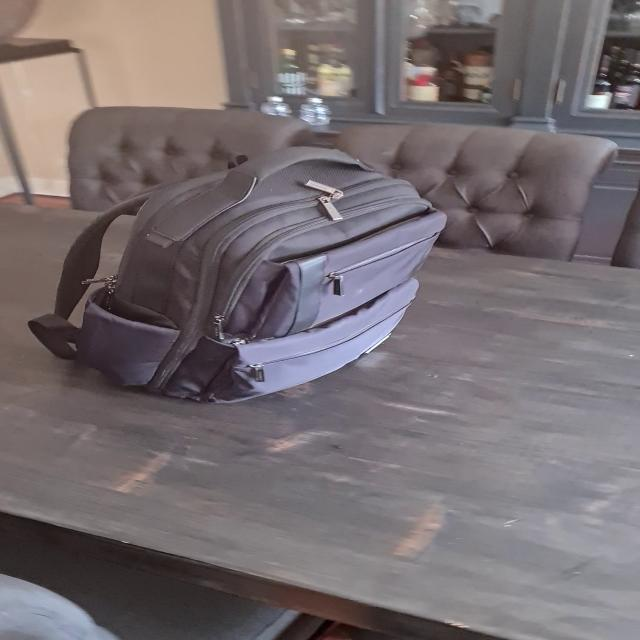backpack: (48, 138, 454, 410)
